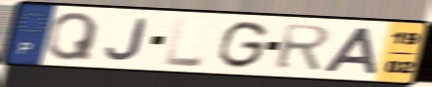A: (320, 25, 381, 76)
G: (215, 19, 271, 70)
J: (103, 16, 150, 62)
L: (163, 16, 206, 68)
Q: (45, 10, 102, 62)
R: (272, 23, 334, 72)
